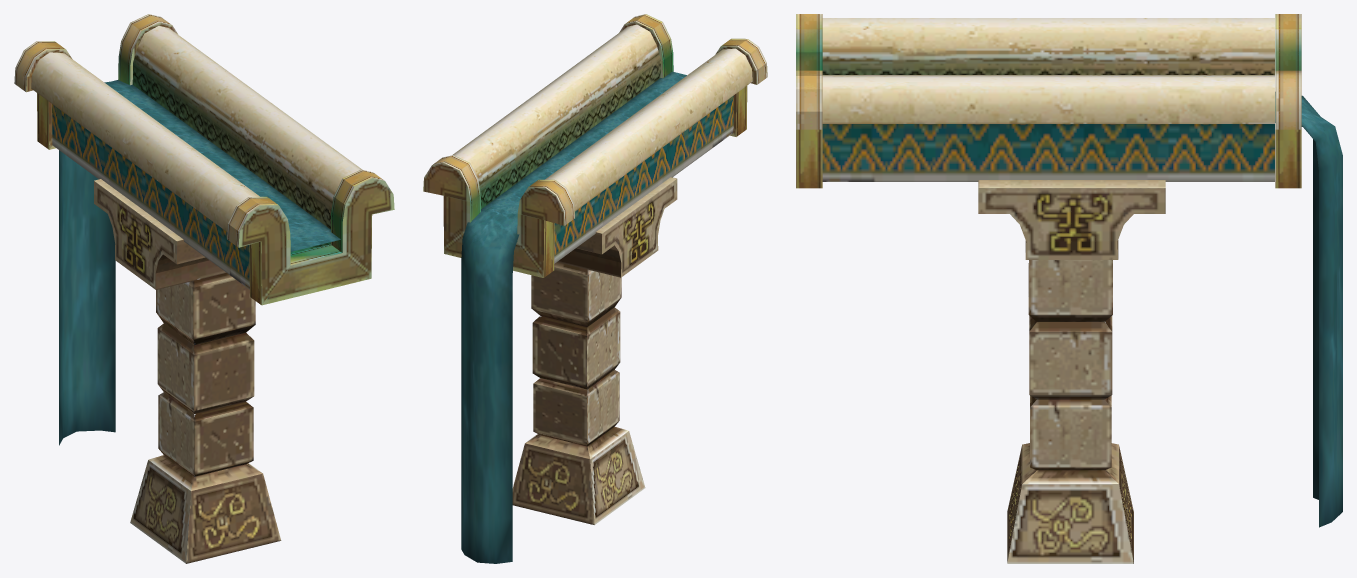
3 renders of one model, left to right at view 1: azimuth 30°, elevation 25°; view 2: azimuth 150°, elevation 25°; view 3: azimuth 270°, elevation 25°, orthographic. The views are drawn at different scales.
Parts seen in each view (by area): view 1: geom_node_0; view 2: geom_node_0; view 3: geom_node_0.
Boxes of the visible parts, x1,y1,x2,y2 form: geom_node_0: (14, 14, 394, 563); geom_node_0: (423, 14, 767, 563); geom_node_0: (796, 14, 1342, 563).
Size of the model in its own units: 1.5 by 3.96 by 4.03.
Materials: 3 (3 with a texture image).
